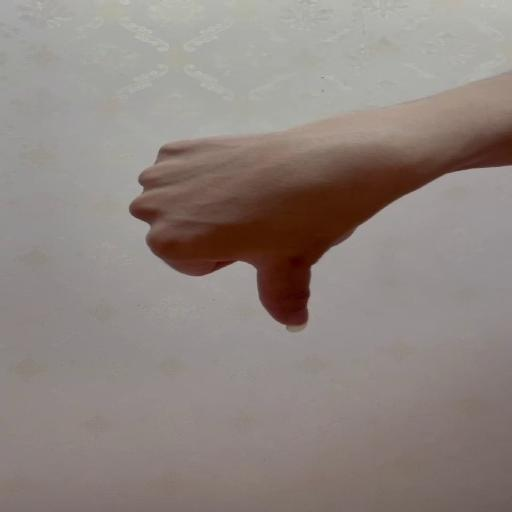thumbs_down: (130, 135, 401, 334)
